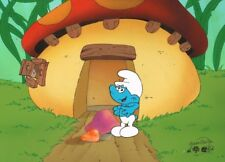smurf: (106, 67, 142, 138)
